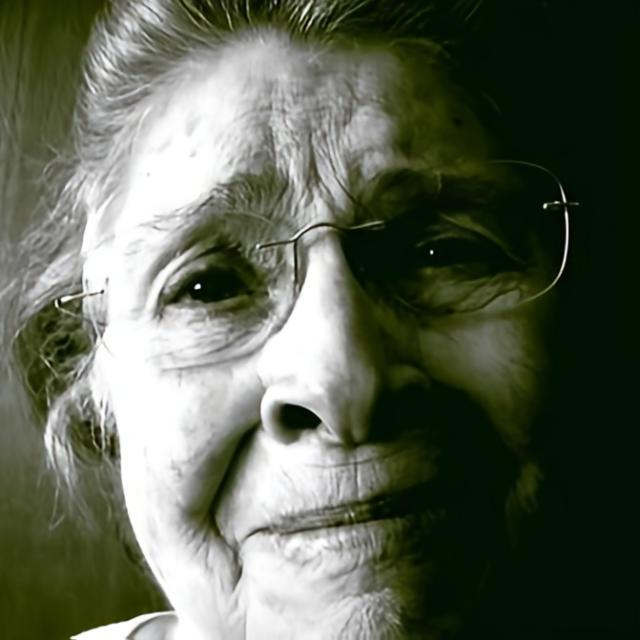sad: (104, 26, 573, 640)
